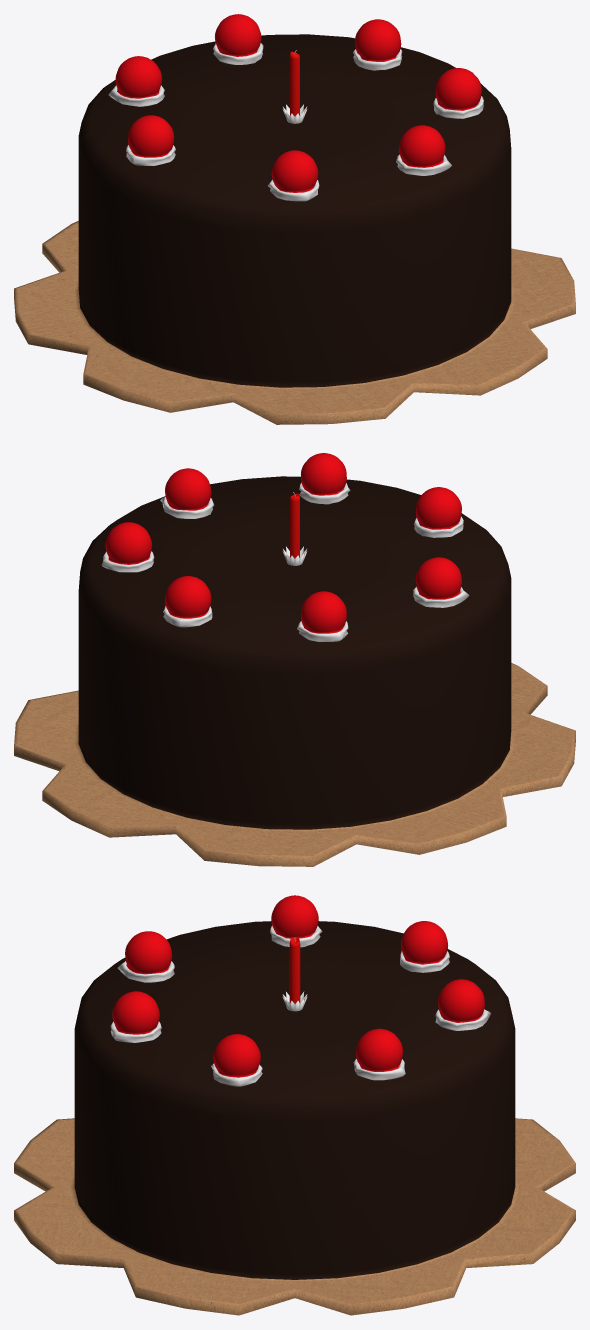
Rendered from cake.gltf.
3 renders of one model, top to bottom at view 1: azimuth 30°, elevation 25°; view 2: azimuth 150°, elevation 25°; view 3: azimuth 270°, elevation 25°, orthographic.
Parts seen in each view (by area): view 1: cake, decoration, candle; view 2: cake, decoration, candle; view 3: cake, decoration, candle.
Boxes of the visible parts, x1=… form: cake: x1=14, y1=34, x2=575, y2=424; decoration: x1=108, y1=14, x2=483, y2=201; candle: x1=282, y1=50, x2=307, y2=123; cake: x1=14, y1=476, x2=575, y2=866; decoration: x1=101, y1=453, x2=469, y2=641; candle: x1=282, y1=492, x2=307, y2=565; cake: x1=14, y1=921, x2=575, y2=1315; decoration: x1=110, y1=895, x2=491, y2=1086; candle: x1=282, y1=937, x2=307, y2=1011.
Bounding box in the file's own units: 2.55 × 1.3 × 2.55.
7 materials, 1 textured.
